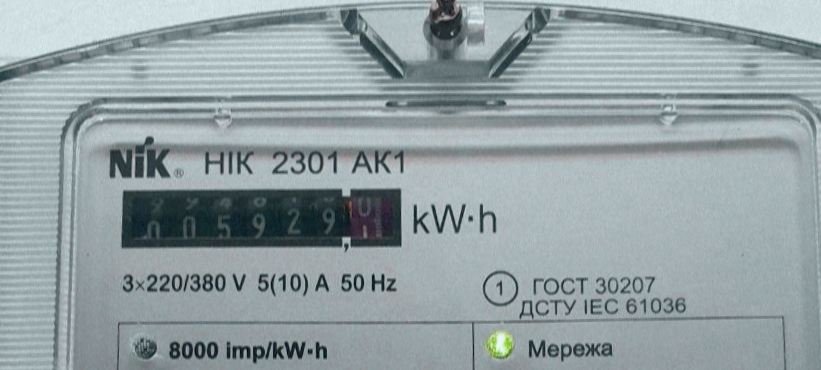0: (180, 212, 200, 240), (143, 215, 165, 238), (356, 194, 375, 217)
2: (284, 204, 304, 237)
5: (215, 211, 234, 239)
9: (248, 209, 270, 239), (320, 204, 340, 236), (148, 195, 166, 213)
screen: (114, 176, 411, 263)
